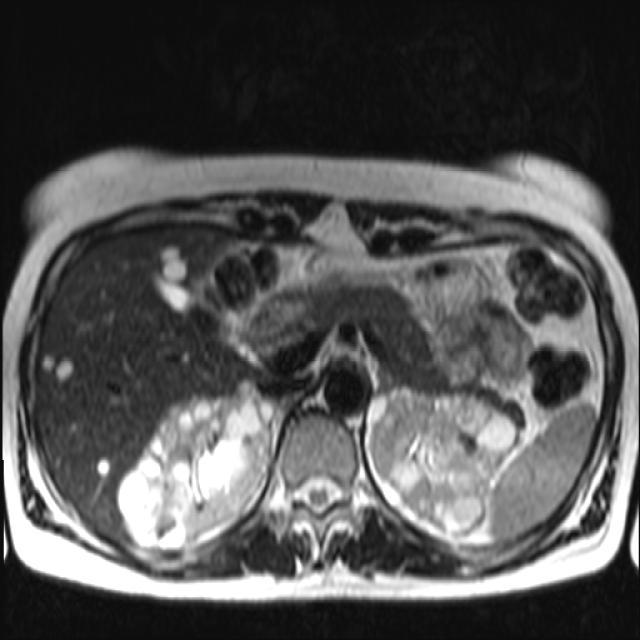sag: (117, 380, 276, 553)
sol: (364, 385, 516, 541)
